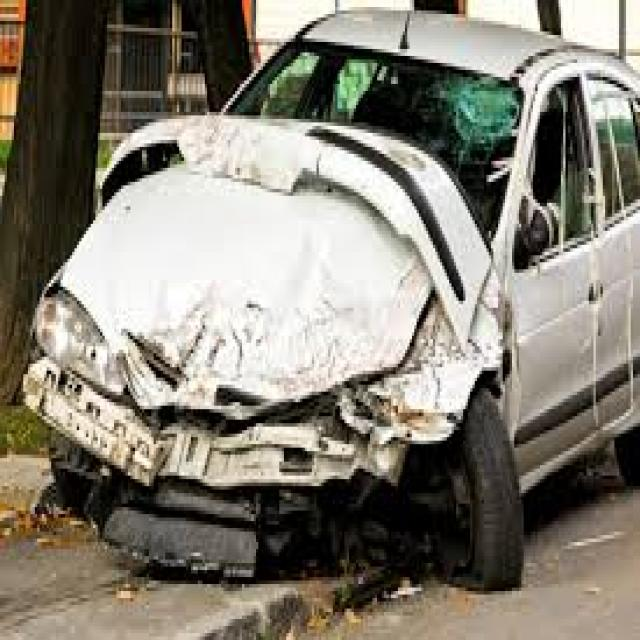severe: (37, 137, 518, 606)
